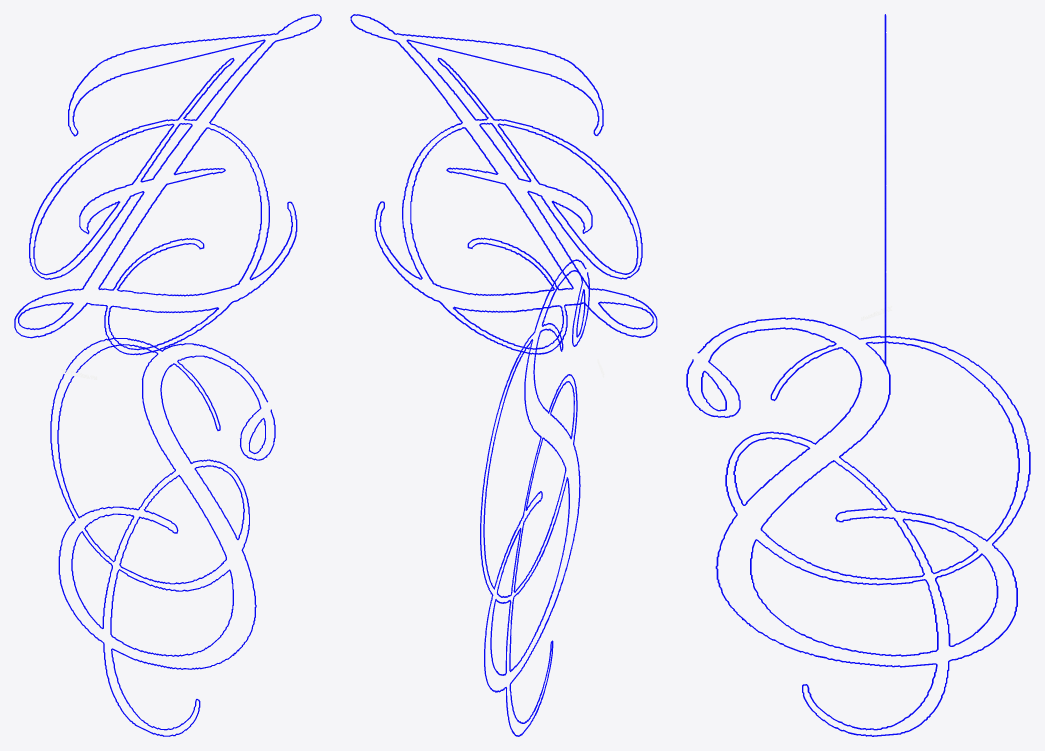
3 views of the same model, side by side, from view 1: azimuth 30°, elevation 25°; view 2: azimuth 150°, elevation 25°; view 3: azimuth 270°, elevation 25° (orthographic). The views are drawn at different scales.
Size of the model in its own units: 1.41 by 3 by 1.33.
